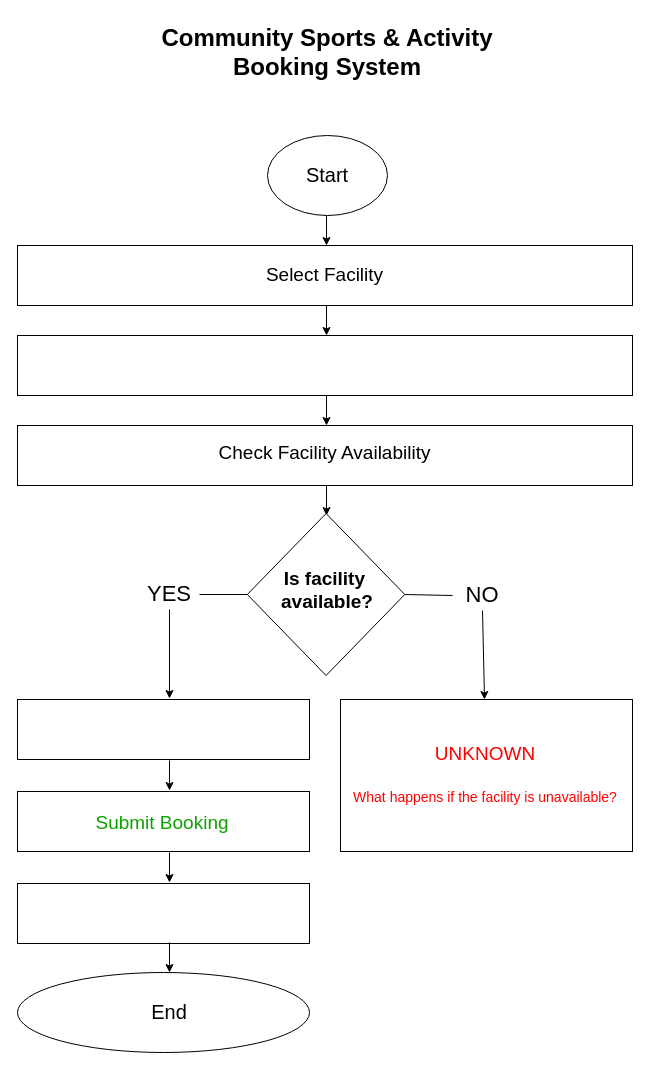
The diagram is 650 pixels wide and 1070 high, and some of its shapes have lost their labels. The centre of each missing label's shape, as x and y in pixels:
"Booking Recorded" goes at [163,913].
"Enter Booking Details" goes at [163,729].
"Select Date and Time" goes at [324,365].
